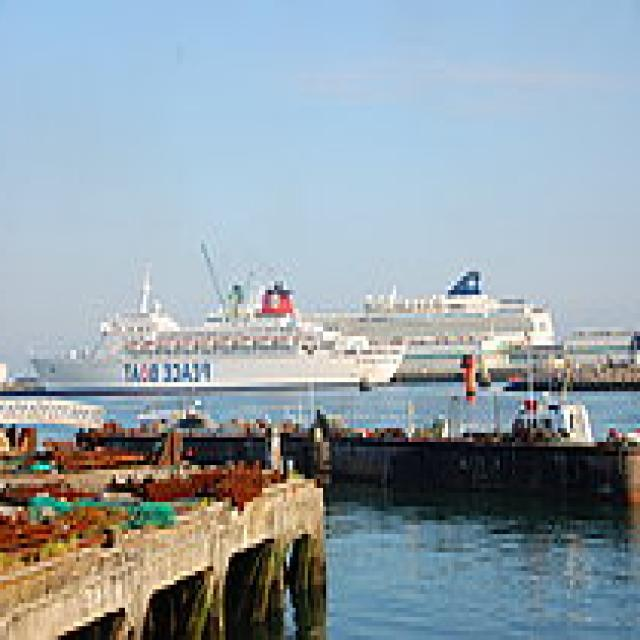Cruise: (31, 263, 414, 392), (204, 258, 558, 373)
